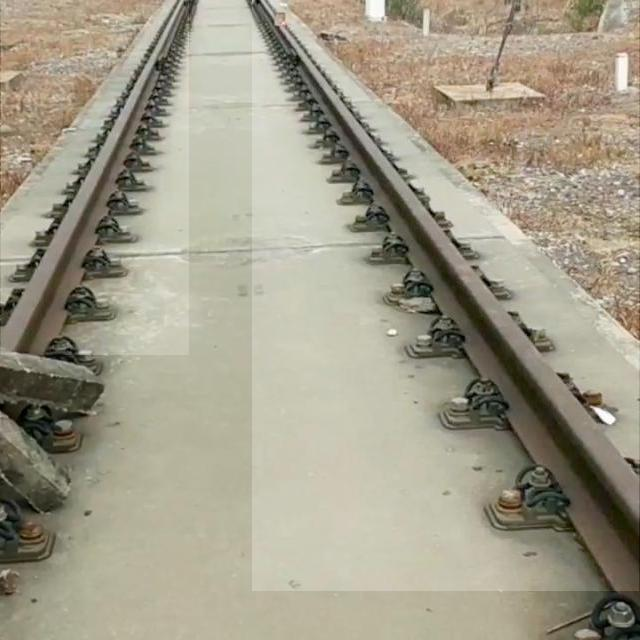rail: (254, 1, 640, 592), (3, 1, 190, 356)
